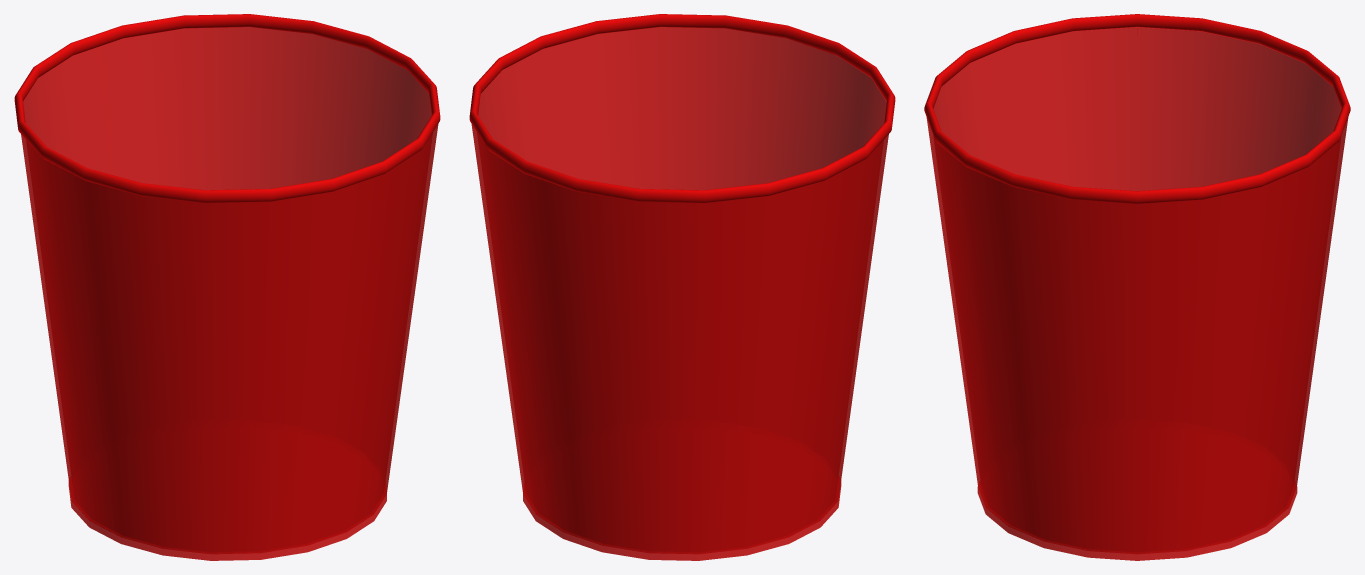
File: basket vermelho.fbx
3 views of the same model, side by side, from view 1: azimuth 30°, elevation 25°; view 2: azimuth 150°, elevation 25°; view 3: azimuth 270°, elevation 25° (orthographic).
Parts seen in each view (by area): view 1: polySurface1, pTorus1; view 2: polySurface1, pTorus1; view 3: polySurface1, pTorus1.
Boxes of the visible parts, x1,y1,x2,y2 form: polySurface1: (21,26,438,560); pTorus1: (14,14,440,203); polySurface1: (471,26,888,560); pTorus1: (469,14,895,203); polySurface1: (926,26,1348,560); pTorus1: (924,14,1350,203).
Size of the model in its own units: 0.5014 by 0.5051 by 0.4999.
